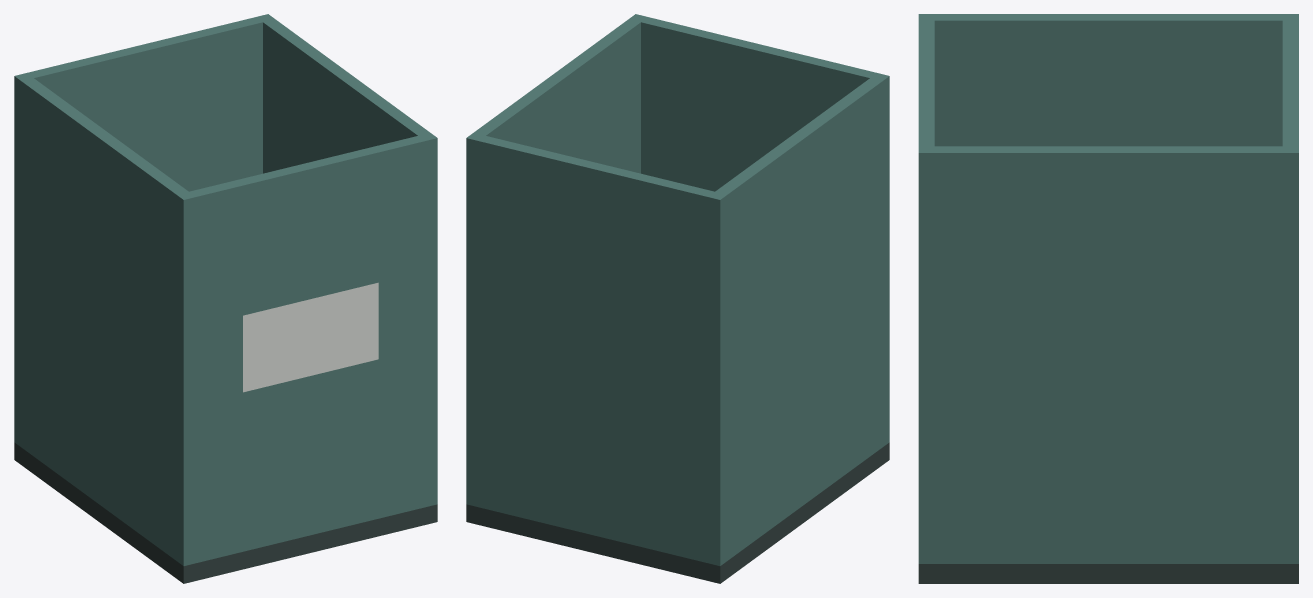
The model's file is CLN_BIN_HALF_01.fbx.
3 views of the same model, side by side, from view 1: azimuth 30°, elevation 25°; view 2: azimuth 150°, elevation 25°; view 3: azimuth 270°, elevation 25° (orthographic). The views are drawn at different scales.
Parts seen in each view (by area): view 1: CLN_BIN_HALF_01; view 2: CLN_BIN_HALF_01; view 3: CLN_BIN_HALF_01.
Part boxes in pixels (box(x1,y1,x2,y2)): CLN_BIN_HALF_01: box(14, 14, 437, 583); CLN_BIN_HALF_01: box(466, 14, 889, 583); CLN_BIN_HALF_01: box(918, 14, 1298, 583).
Size of the model in its own units: 45 by 65 by 52.05.
